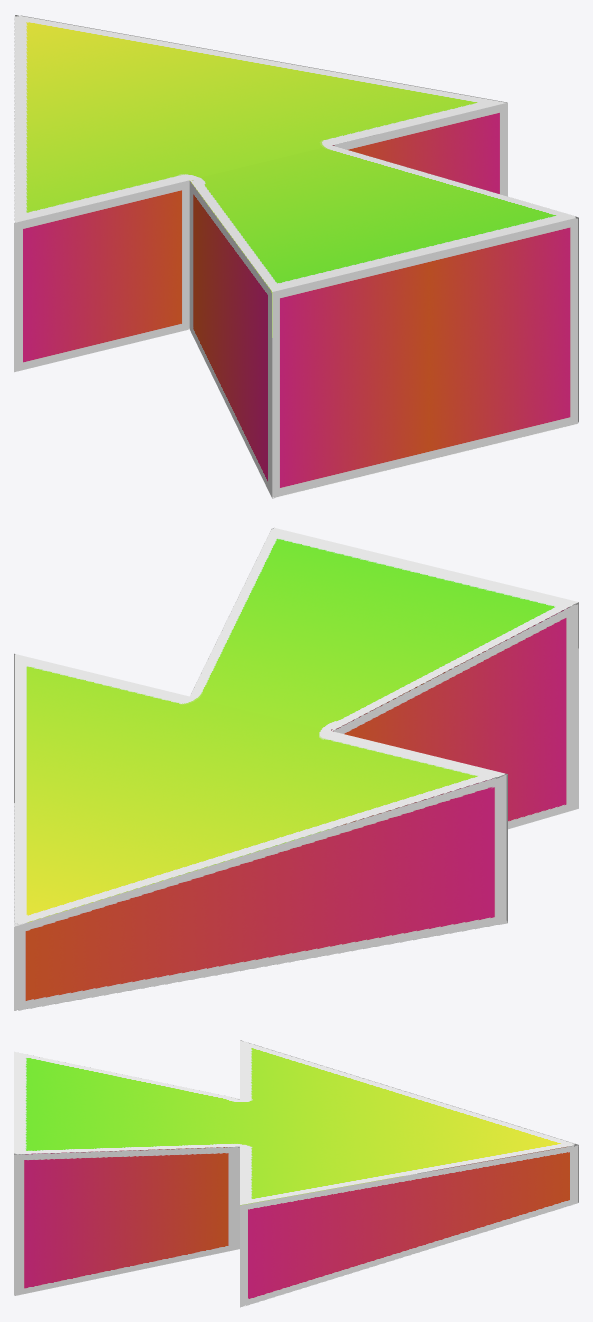
The model's file is arrow.fbx.
The picture shows the model from 3 angles, top to bottom: view 1: azimuth 30°, elevation 25°; view 2: azimuth 150°, elevation 25°; view 3: azimuth 270°, elevation 25°; orthographic projection. The views are drawn at different scales.
Parts seen in each view (by area): view 1: Cube; view 2: Cube; view 3: Cube.
Part boxes in pixels (x1,y1,x2,y2): Cube: [14, 15, 578, 498]; Cube: [14, 528, 578, 1010]; Cube: [14, 1040, 578, 1307].
Size of the model in its own units: 346 by 138 by 500.
Materials: 1 (1 with a texture image).
